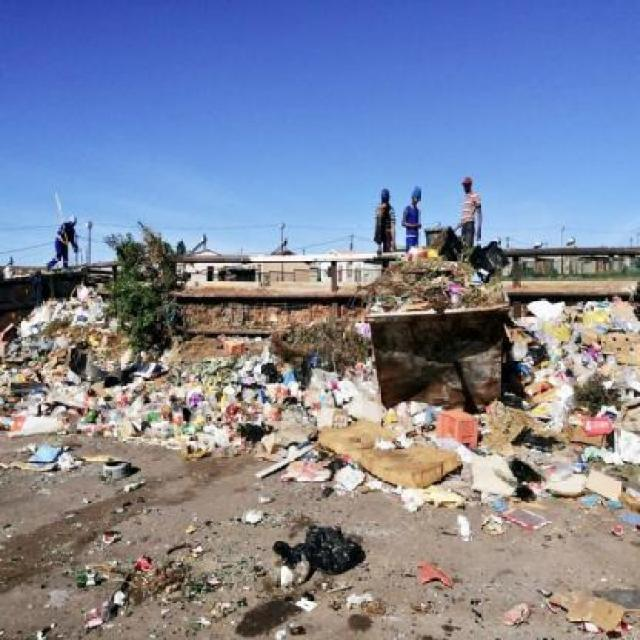garbage: (524, 287, 640, 490), (105, 363, 359, 442), (325, 408, 518, 489), (10, 289, 106, 423), (74, 543, 220, 620), (372, 243, 496, 314), (257, 517, 362, 590), (532, 580, 636, 639), (17, 437, 134, 488)
